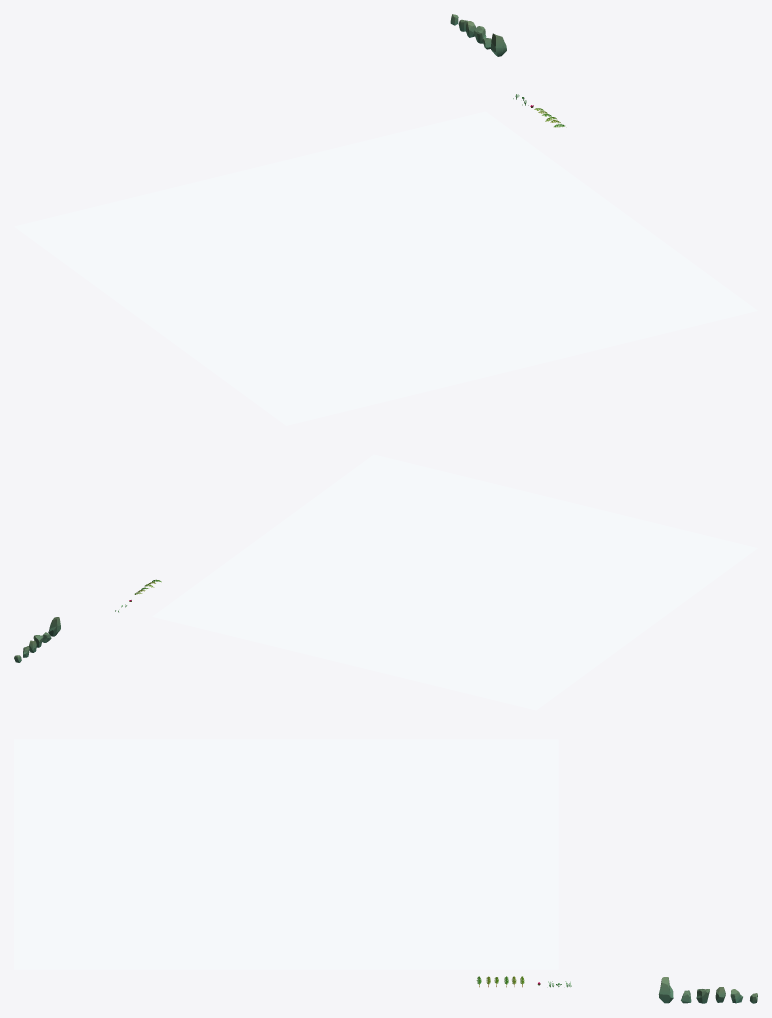
The model's file is island-palm-tree-scene.gltf.
The picture shows the model from 3 angles, top to bottom: view 1: azimuth 30°, elevation 25°; view 2: azimuth 150°, elevation 25°; view 3: azimuth 270°, elevation 25°; orthographic projection. The views are drawn at different scales.
Parts seen in each view (by area): view 1: Ocean; view 2: Ocean; view 3: Ocean.
Part boxes in pixels (left/top/right/bottom): Ocean: left=15, top=112, right=757, bottom=425; Ocean: left=153, top=455, right=757, bottom=709; Ocean: left=14, top=739, right=558, bottom=969.
Bounding box in the file's own units: 104 × 4.19 × 123.
Materials: 3 (2 with a texture image).
